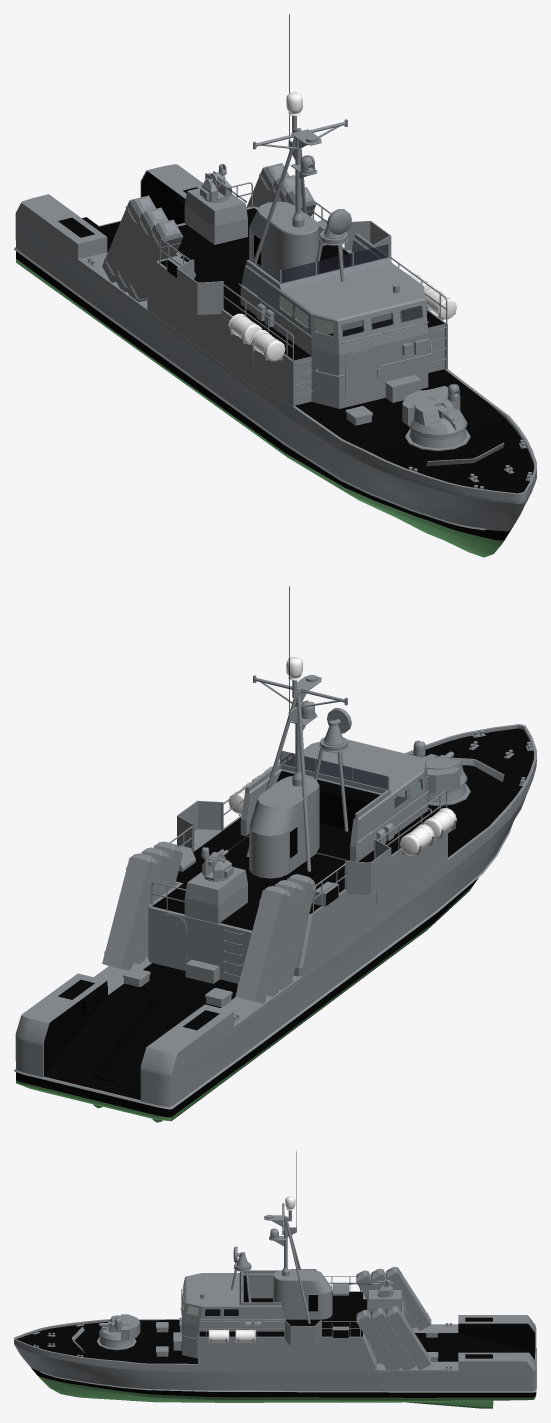
Rendered from frigate.glb.
3 renders of one model, top to bottom at view 1: azimuth 30°, elevation 25°; view 2: azimuth 150°, elevation 25°; view 3: azimuth 270°, elevation 25°, orthographic. The views are drawn at different scales.
Parts seen in each view (by area): view 1: attackboat_blue_superstructure, attackboat_blue_hull, attackboat_blue_turret, attackboat_blue_chaingun_mount; view 2: attackboat_blue_superstructure, attackboat_blue_hull, attackboat_blue_turret, attackboat_blue_chaingun_mount; view 3: attackboat_blue_hull, attackboat_blue_superstructure, attackboat_blue_turret.
Boxes of the visible parts, x1,y1,x2,y2 form: attackboat_blue_superstructure: [102, 14, 470, 450]; attackboat_blue_hull: [14, 164, 536, 557]; attackboat_blue_turret: [402, 383, 467, 437]; attackboat_blue_chaingun_mount: [200, 164, 231, 202]; attackboat_blue_superstructure: [102, 586, 470, 1003]; attackboat_blue_hull: [14, 724, 536, 1122]; attackboat_blue_turret: [413, 740, 467, 793]; attackboat_blue_chaingun_mount: [201, 847, 233, 881]; attackboat_blue_hull: [14, 1315, 536, 1408]; attackboat_blue_superstructure: [97, 1151, 431, 1370]; attackboat_blue_turret: [99, 1314, 140, 1342].
Size of the model in its own units: 7.02 by 14.18 by 27.01.
